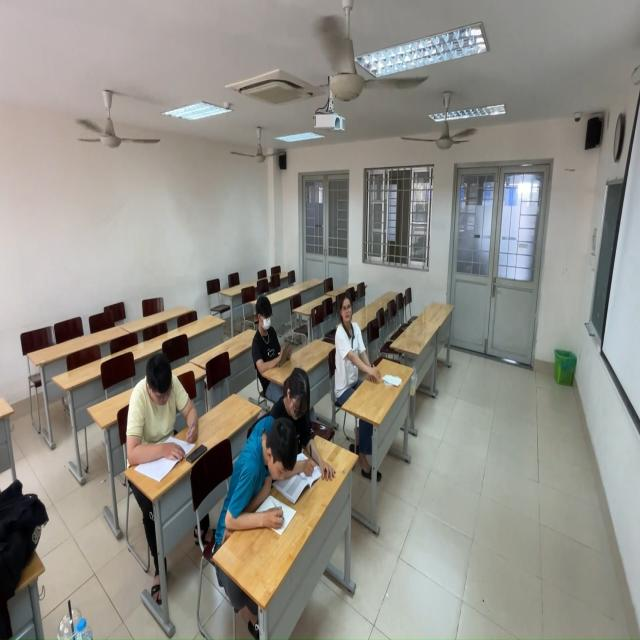read: (205, 389, 301, 555), (122, 334, 209, 471), (261, 359, 334, 484), (333, 295, 399, 399), (248, 291, 304, 375)
